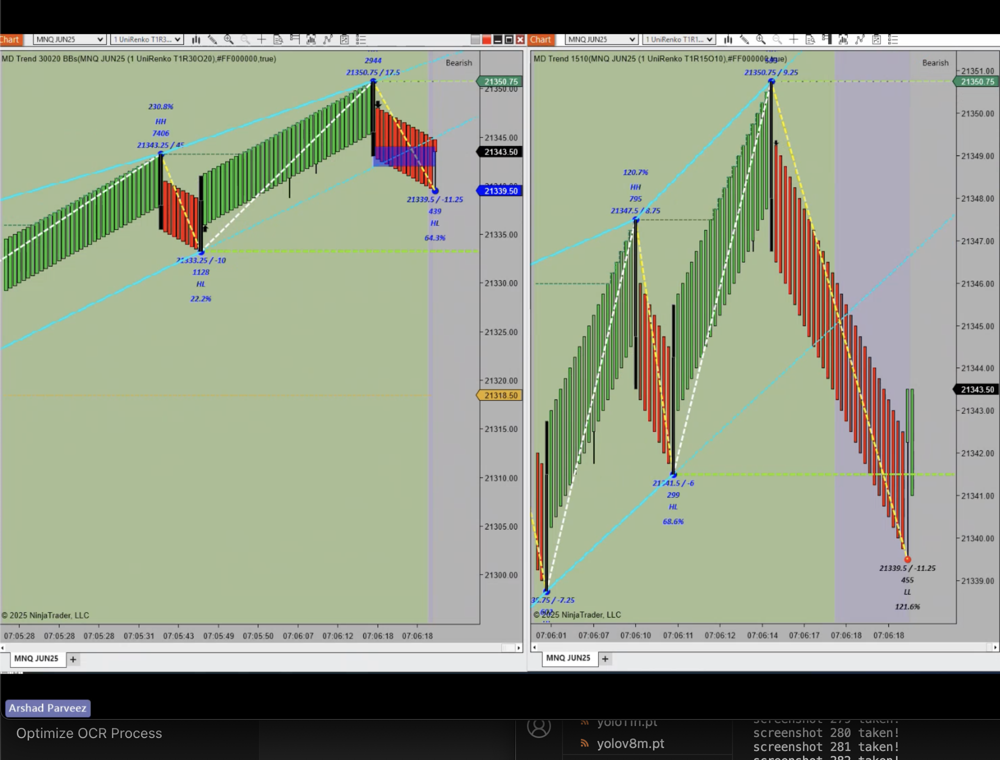HH: (624, 177, 650, 195), (146, 116, 174, 130)
HL: (663, 497, 688, 519), (426, 215, 448, 232), (191, 277, 211, 293)
LL: (896, 582, 913, 600)
